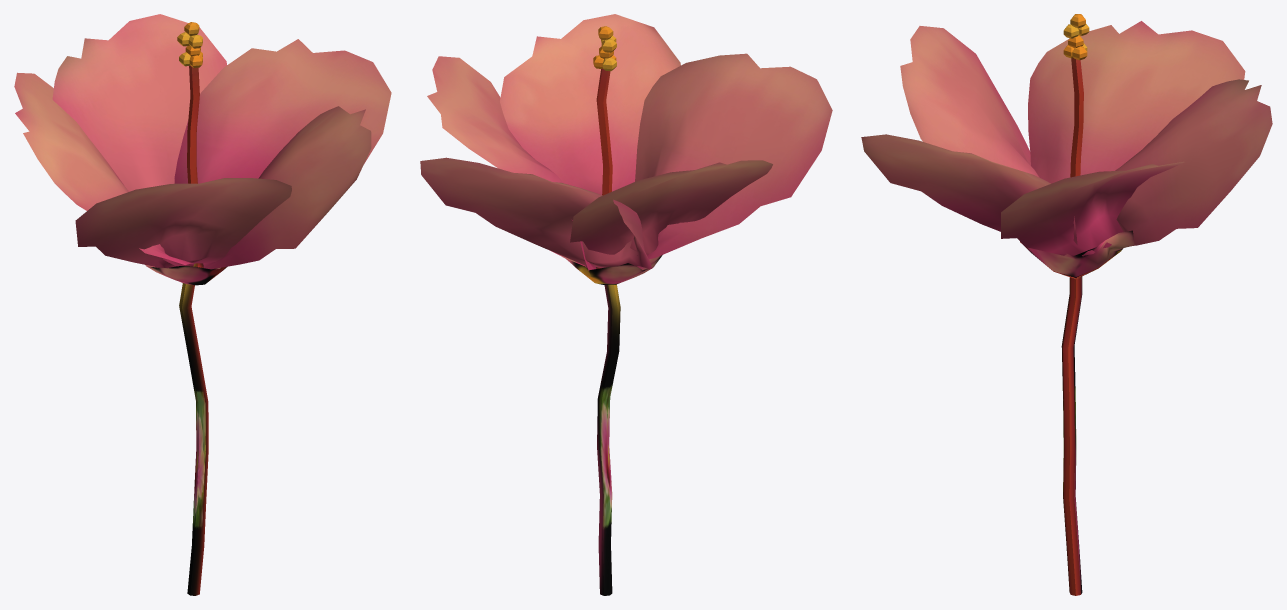
Rendered from Hibiscus.1fbx.fbx.
3 views of the same model, side by side, from view 1: azimuth 30°, elevation 25°; view 2: azimuth 150°, elevation 25°; view 3: azimuth 270°, elevation 25° (orthographic).
Parts seen in each view (by area): view 1: Hibiscus1; view 2: Hibiscus1; view 3: Hibiscus1.
Part boxes in pixels (x1,y1,x2,y2): Hibiscus1: [14, 14, 391, 595]; Hibiscus1: [420, 14, 832, 595]; Hibiscus1: [861, 14, 1272, 595].
Bounding box in the file's own units: 3.58 × 5.71 × 3.68.
Materials: 1 (1 with a texture image).
